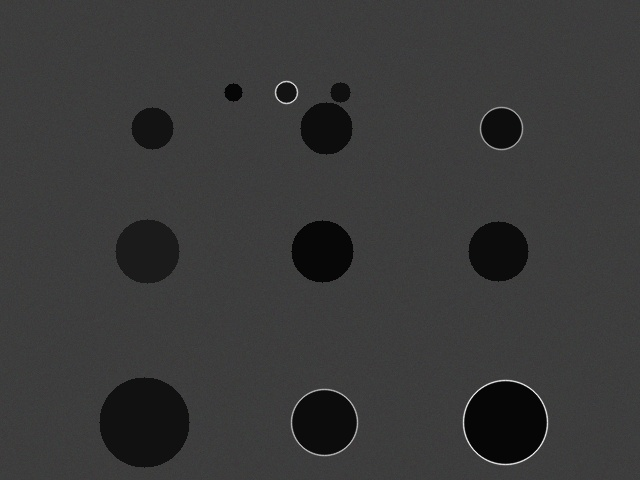hole: (99, 377, 189, 467), (463, 380, 547, 464), (291, 389, 357, 455), (115, 219, 179, 283), (291, 220, 353, 282), (468, 221, 528, 281), (300, 102, 352, 154), (131, 107, 173, 149), (480, 107, 522, 149), (275, 81, 297, 103), (330, 82, 350, 102), (224, 83, 242, 101)
